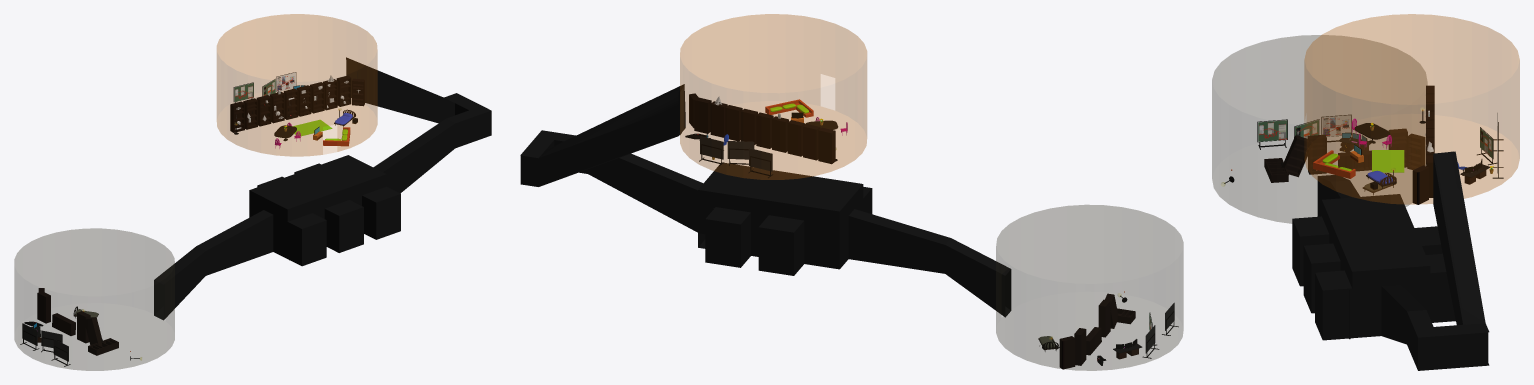
The model's file is mutebutton.obj.
The picture shows the model from 3 angles, left to right: view 1: azimuth 30°, elevation 25°; view 2: azimuth 150°, elevation 25°; view 3: azimuth 270°, elevation 25°; orthographic projection. The views are drawn at different scales.
Visible parts, largest first — view 1: Cube.071, Cylinder.086, Cylinder, Cube.016, Cube.020, Cube.010, Cube.081, Cube.017, Cube.014, Cube.018; view 2: Cube.071, Cylinder, Cylinder.086, Cube.010, Cube.020, Cube.014, Cube.016, Cube.013, Cube.015, Cube.018, Cube.019; view 3: Cylinder, Cube.071, Cylinder.086, Cube.076, Plane, Cube.011, Plane.004, Cube.072, Cube.077, Cube.075, Cube.079, Cube.081 (+6 smaller).
Part boxes in pixels (x1,y1,x2,y2): Cube.071: (154,57,491,320); Cylinder.086: (14,228,174,370); Cylinder: (217,14,377,156); Cube.016: (283,88,298,119); Cube.020: (336,75,351,106); Cube.010: (230,101,244,132); Cube.081: (37,291,50,323); Cube.017: (296,85,311,116); Cube.014: (256,95,271,126); Cube.018: (310,82,324,113); Cube.071: (520,84,1011,317); Cylinder: (680,14,866,179); Cylinder.086: (996,205,1183,370); Cube.010: (818,127,835,164); Cube.020: (694,97,711,133); Cube.014: (787,120,804,156); Cube.016: (756,112,773,148); Cube.013: (803,124,820,160); Cube.015: (772,116,788,152); Cube.018: (725,105,742,141); Cube.019: (710,101,727,137); Cylinder: (1304,14,1519,204); Cube.071: (1292,151,1489,370); Cylinder.086: (1212,35,1427,223); Cube.076: (1281,135,1312,176); Plane: (1372,150,1404,172); Cube.011: (1412,165,1428,204); Plane.004: (1258,120,1287,141); Cube.072: (1407,133,1424,169); Cube.077: (1308,134,1326,174); Cube.075: (1264,158,1288,182); Cube.079: (1338,150,1371,171); Cube.081: (1388,128,1407,167).
Bounding box in the file's own units: 236 × 93 × 93.64.
